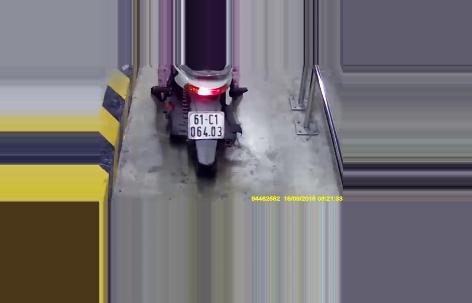License_Plate: (185, 108, 227, 142)
